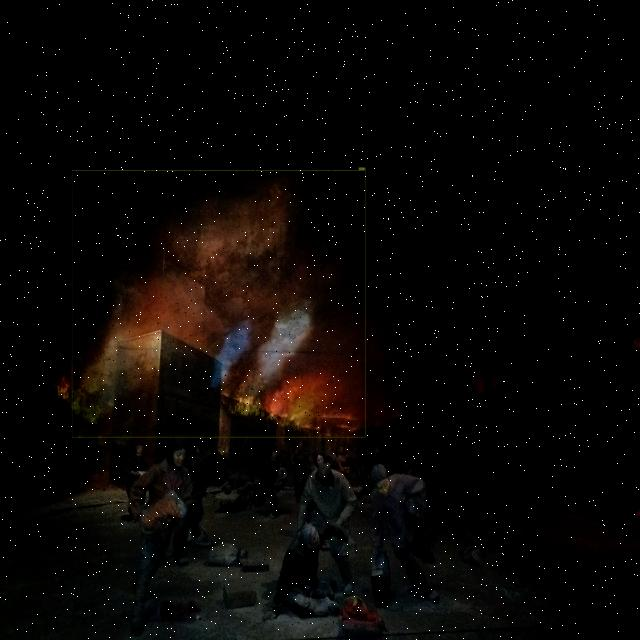smoke: (72, 170, 366, 438)
